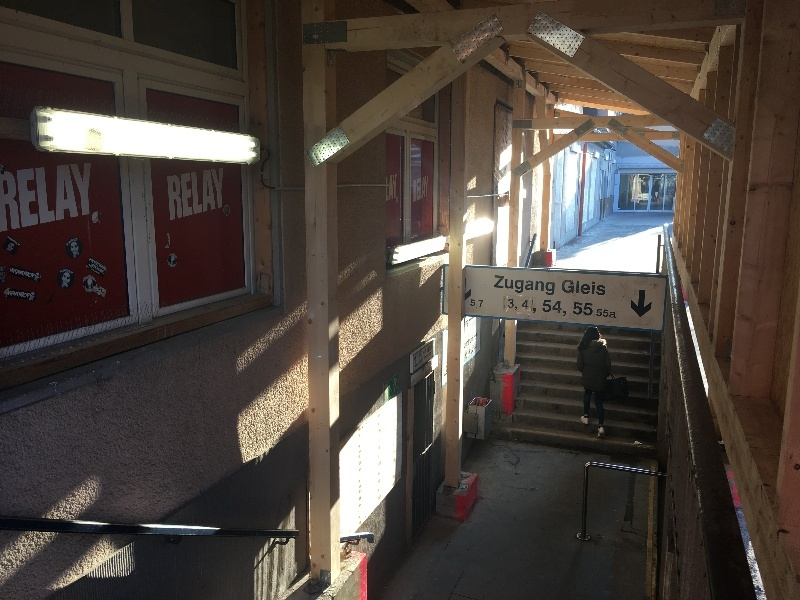text: (1, 161, 16, 234), (17, 161, 32, 234), (33, 161, 48, 234), (49, 161, 64, 234), (65, 161, 80, 234), (177, 163, 192, 223), (193, 163, 208, 223), (209, 163, 224, 223), (81, 161, 92, 234), (164, 163, 176, 223), (385, 174, 400, 202), (497, 274, 512, 298), (513, 274, 528, 298), (529, 274, 544, 298), (417, 175, 428, 204), (577, 278, 592, 297), (97, 256, 109, 279), (593, 278, 607, 297), (545, 300, 560, 317), (563, 278, 576, 297), (545, 274, 555, 298), (513, 299, 528, 315), (577, 302, 592, 317), (418, 350, 432, 366), (17, 268, 32, 281), (225, 163, 228, 223), (17, 288, 32, 299), (89, 256, 96, 279), (465, 319, 480, 328), (529, 299, 537, 315), (597, 308, 608, 319), (465, 337, 474, 350), (419, 350, 432, 359), (6, 288, 16, 299), (561, 300, 567, 317), (471, 298, 480, 309), (506, 299, 512, 315), (413, 175, 416, 204), (10, 268, 16, 281), (609, 308, 616, 319), (423, 348, 432, 355), (494, 274, 496, 298), (481, 298, 484, 309), (574, 302, 576, 317), (593, 302, 595, 317), (33, 268, 35, 281), (543, 300, 544, 317)
